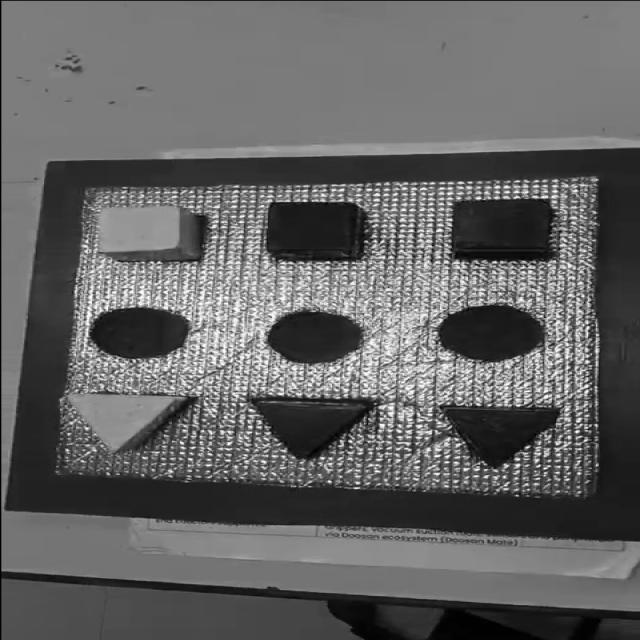bcube: (448, 197, 554, 258)
btriangle: (438, 405, 564, 468)
mtcircle: (434, 303, 546, 363), (87, 306, 189, 360), (264, 310, 364, 364)
rcube: (264, 202, 362, 260)
rtriangle: (250, 398, 372, 459)
wb: (52, 179, 601, 500)
ycube: (95, 205, 202, 262)
ytriangle: (66, 392, 187, 454)
